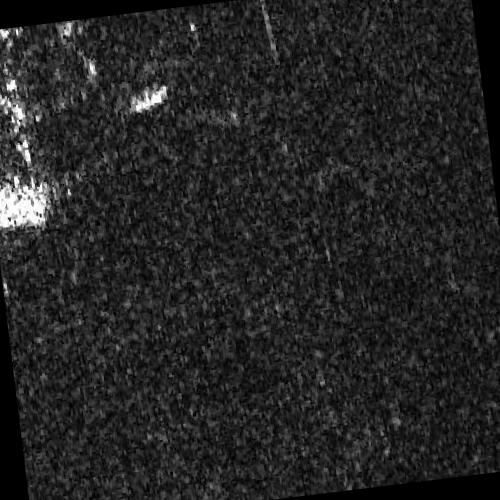ship: (130, 80, 168, 114)
